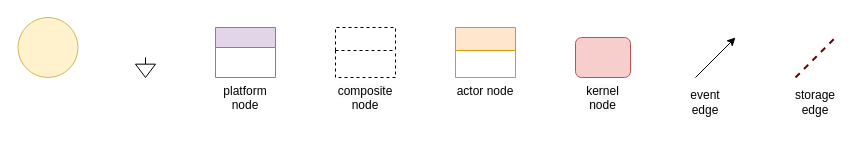
This 862x145 diagram has some shape labels left out. Each missing label, with the box of its shape:
null node (drop): (134, 56, 156, 78)
system node (external): (17, 16, 78, 78)
